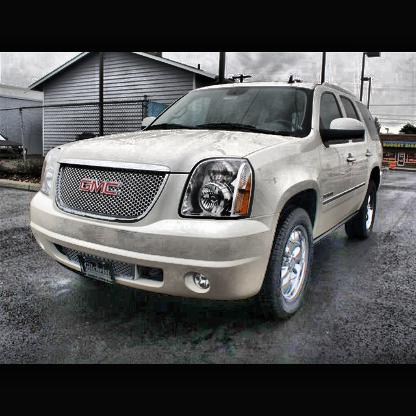GMC Yukon Hybrid SUV 2012: (30, 83, 384, 317)
